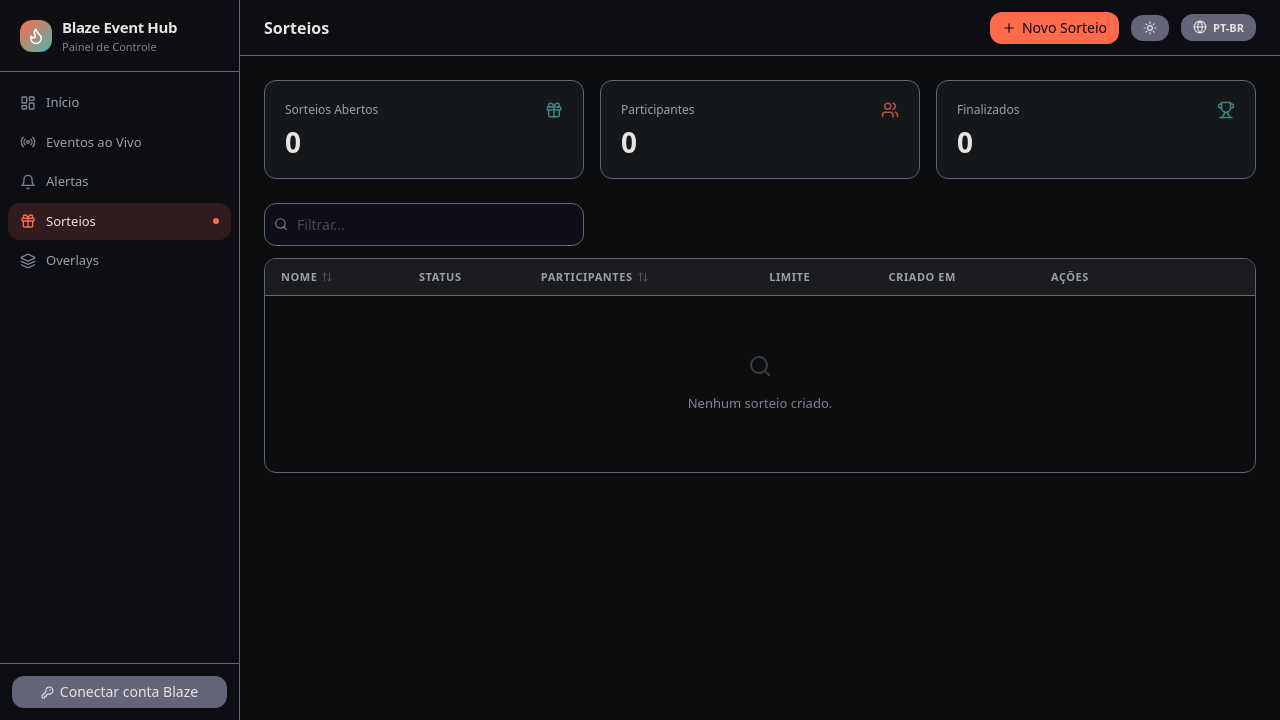
Test: Giveaways › cria sorteio pelo modal do cabecalho com titulo aparado
Click the button "Novo Sorteio".
click(1054, 28)  # box [990, 12, 1119, 44]
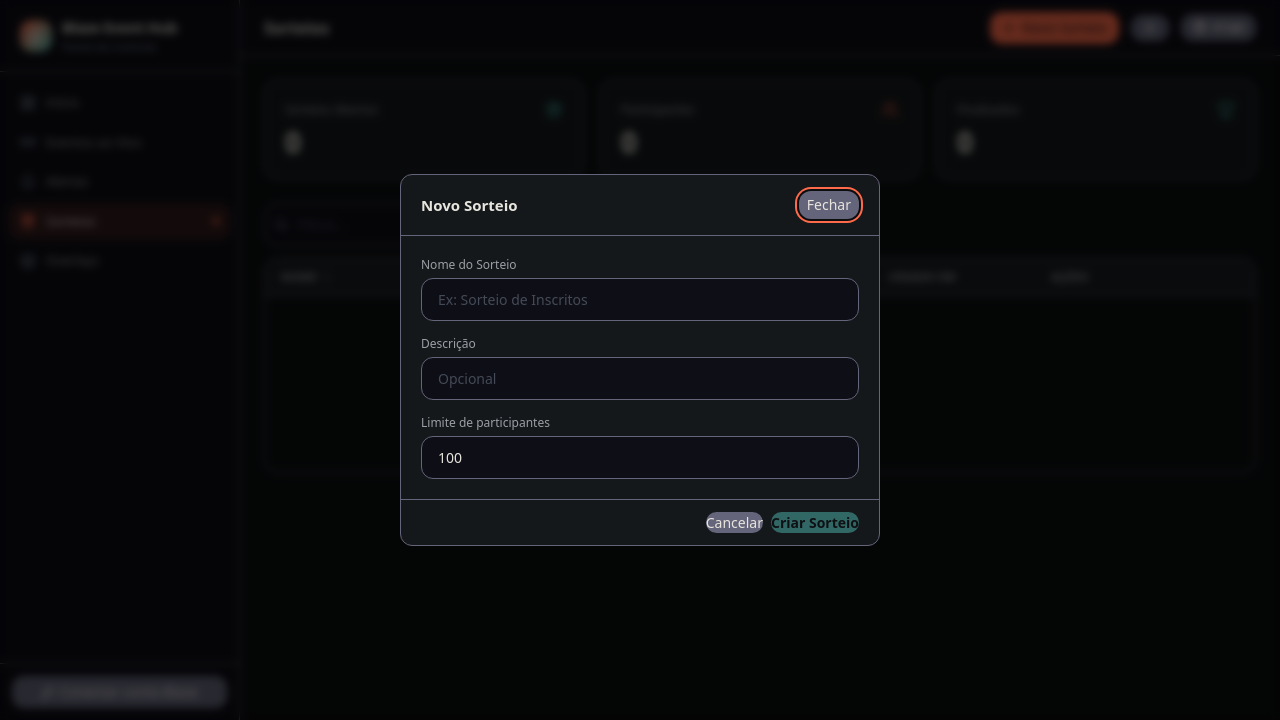
Result: the heading "Novo Sorteio" is shown at [421, 194, 518, 216]
Result: the button "Criar Sorteio" is disabled at [771, 512, 859, 533]
Type "  Roleta Premiada  " into the field labelled "Nome do Sorteio".
click(640, 300); type("  Roleta Premiada  ")  # box [421, 278, 859, 321]
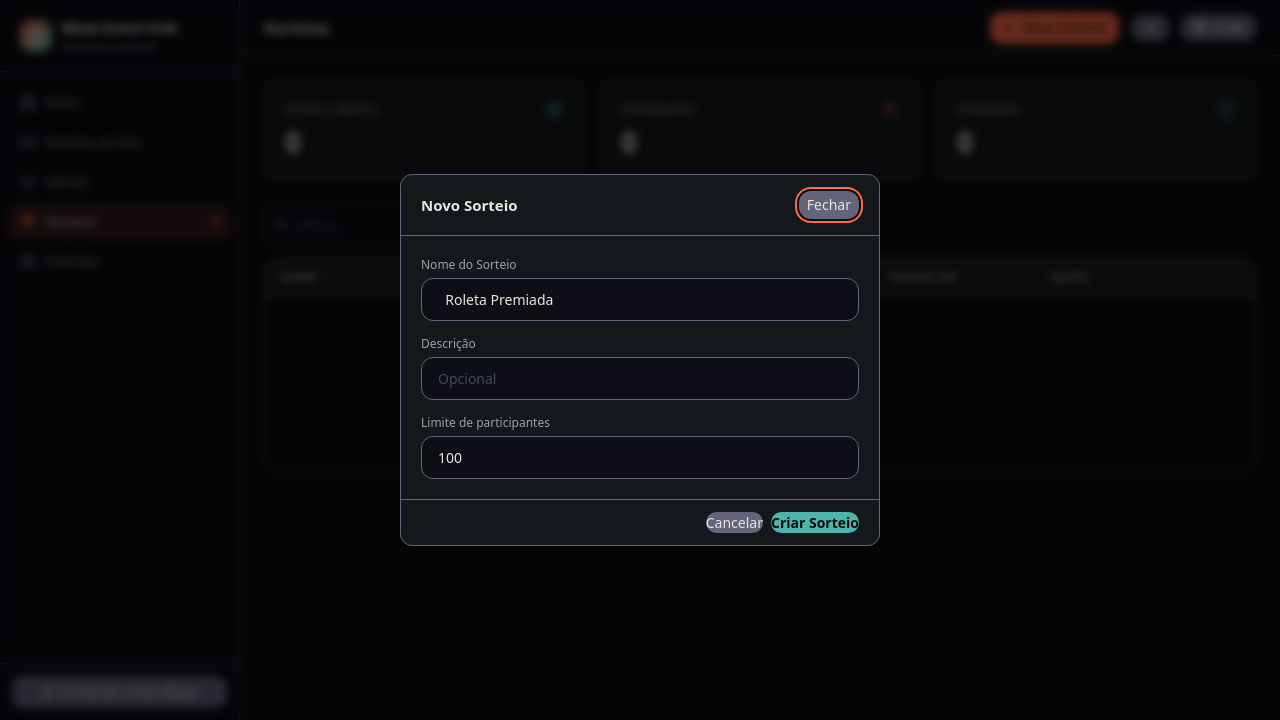
Result: the button "Criar Sorteio" is enabled
Click the button "Criar Sorteio".
click(815, 522)  # box [771, 512, 859, 533]
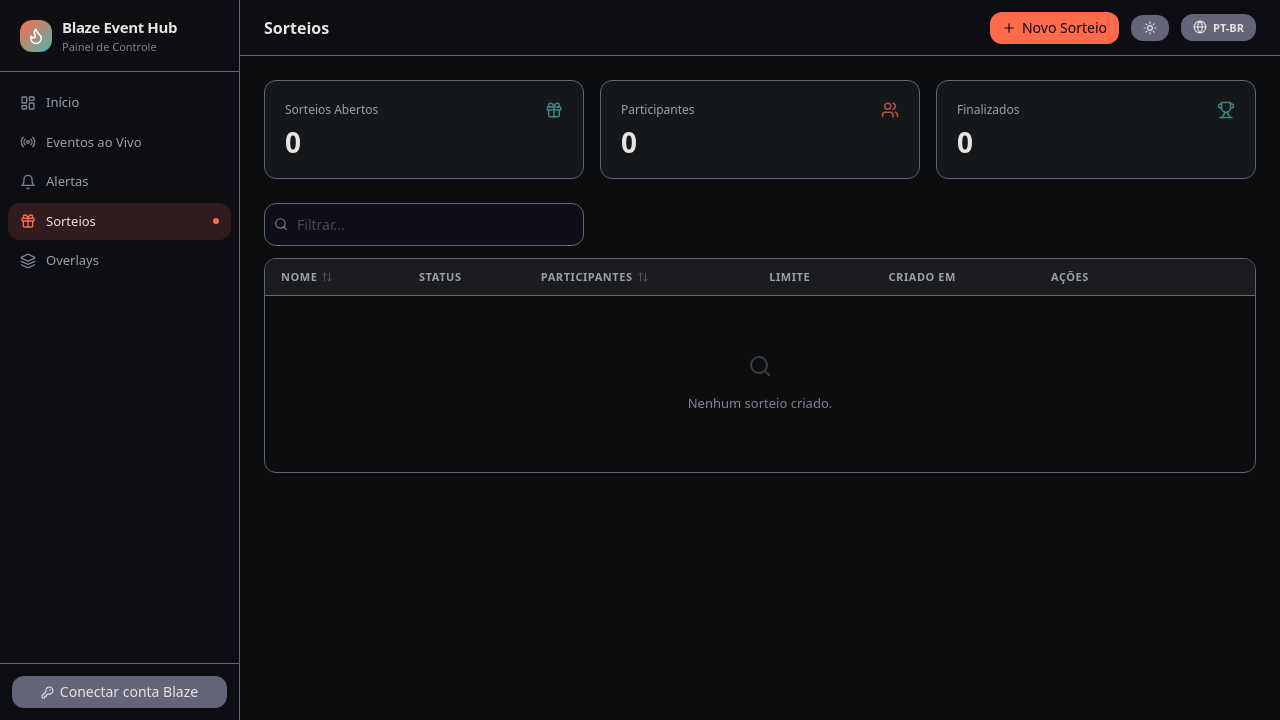
Result: the dialog is gone
